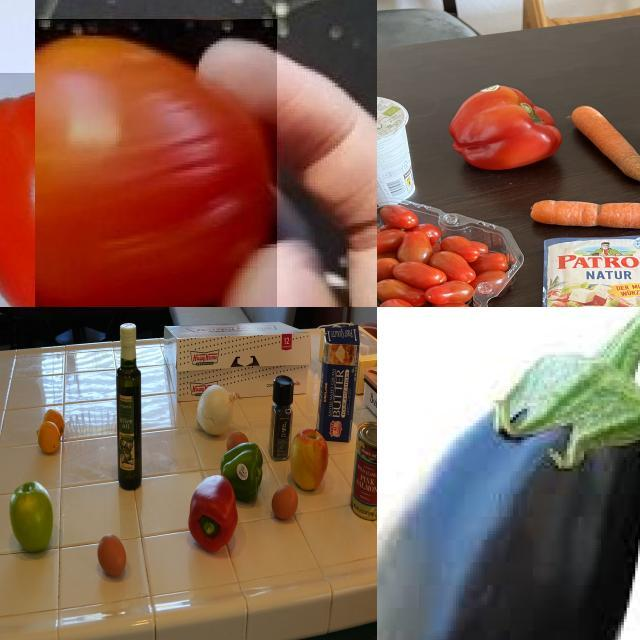bell_pepper: (448, 80, 557, 172), (190, 478, 244, 552), (265, 371, 295, 465), (226, 445, 268, 506)
carrot: (566, 92, 640, 188), (528, 184, 640, 241)
egg: (98, 535, 136, 585), (270, 486, 300, 526), (222, 434, 248, 459)
eggplant: (378, 358, 640, 640)
onion: (194, 384, 235, 436)
tomato: (378, 197, 521, 308), (1, 73, 36, 308)
